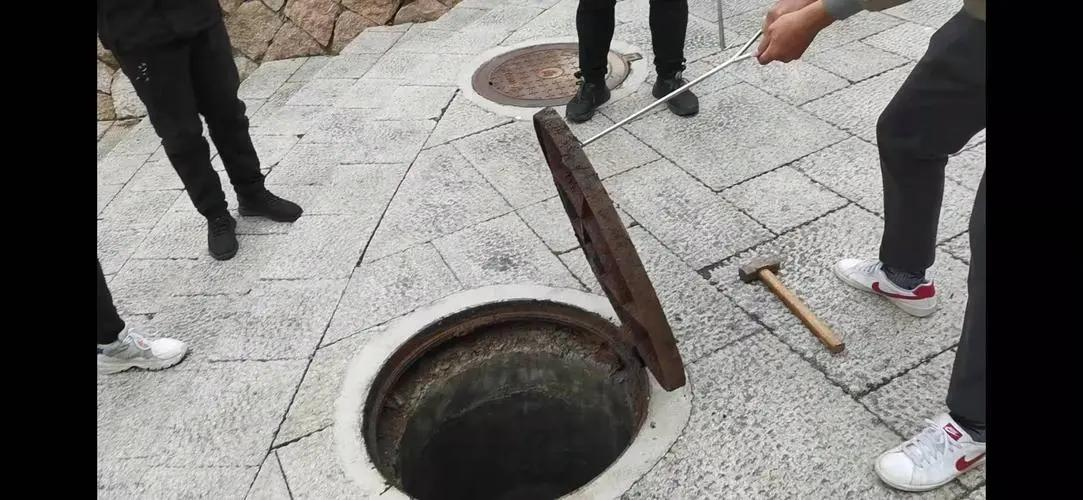wellcover: (328, 111, 707, 500), (459, 18, 679, 124)
